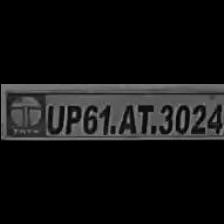0: (172, 102, 190, 132)
1: (97, 100, 113, 134)
2: (189, 100, 205, 134)
3: (155, 100, 173, 134)
4: (204, 100, 222, 132)
6: (79, 100, 97, 134)
A: (113, 100, 135, 134)
P: (62, 100, 78, 134)
T: (135, 100, 153, 134)
U: (42, 100, 62, 134)
